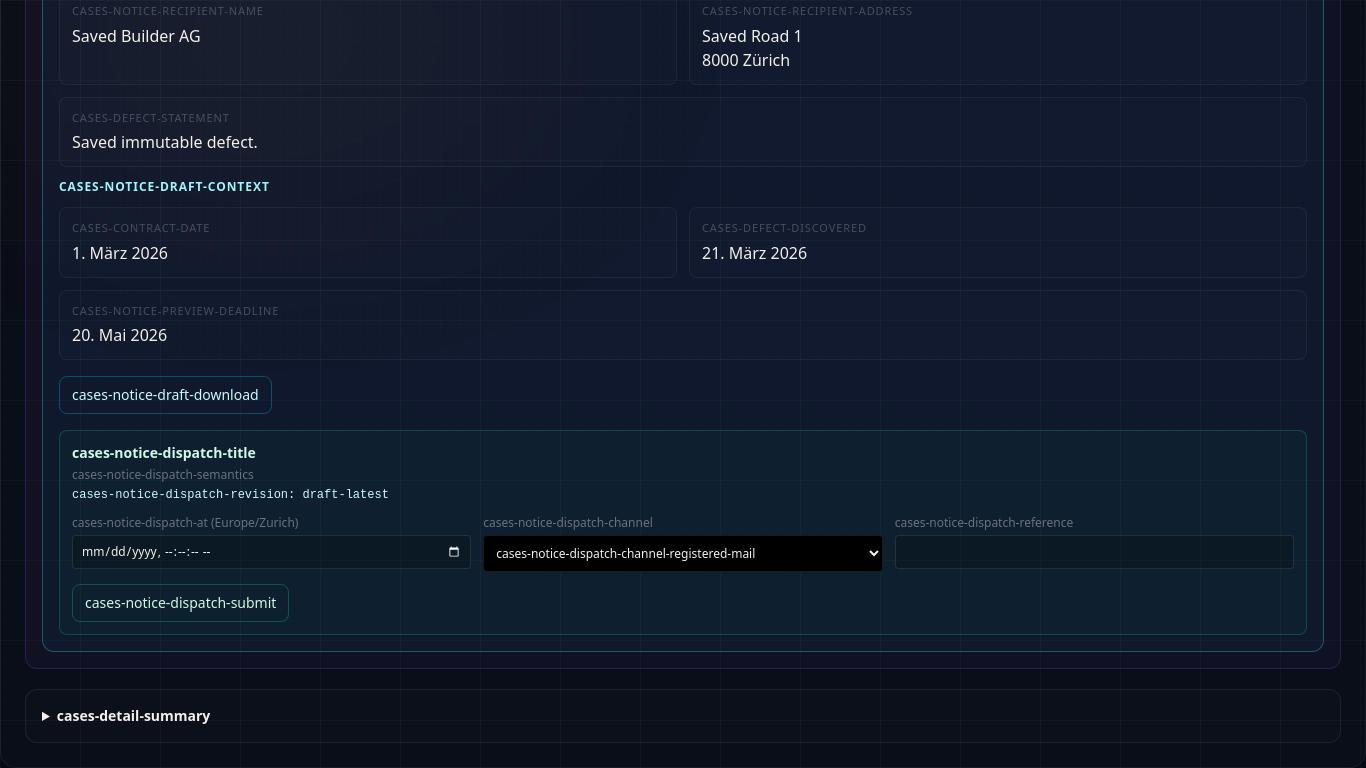
Test: Cases notice dispatch recording › shows localized feedback for a returned insert error
(page scrolled)
Type "2026-08-01T10:30" into the field labelled "cases-notice-dispatch-at (Europe/Zurich)". click: [272, 552]
box: 72,535 -> 471,569
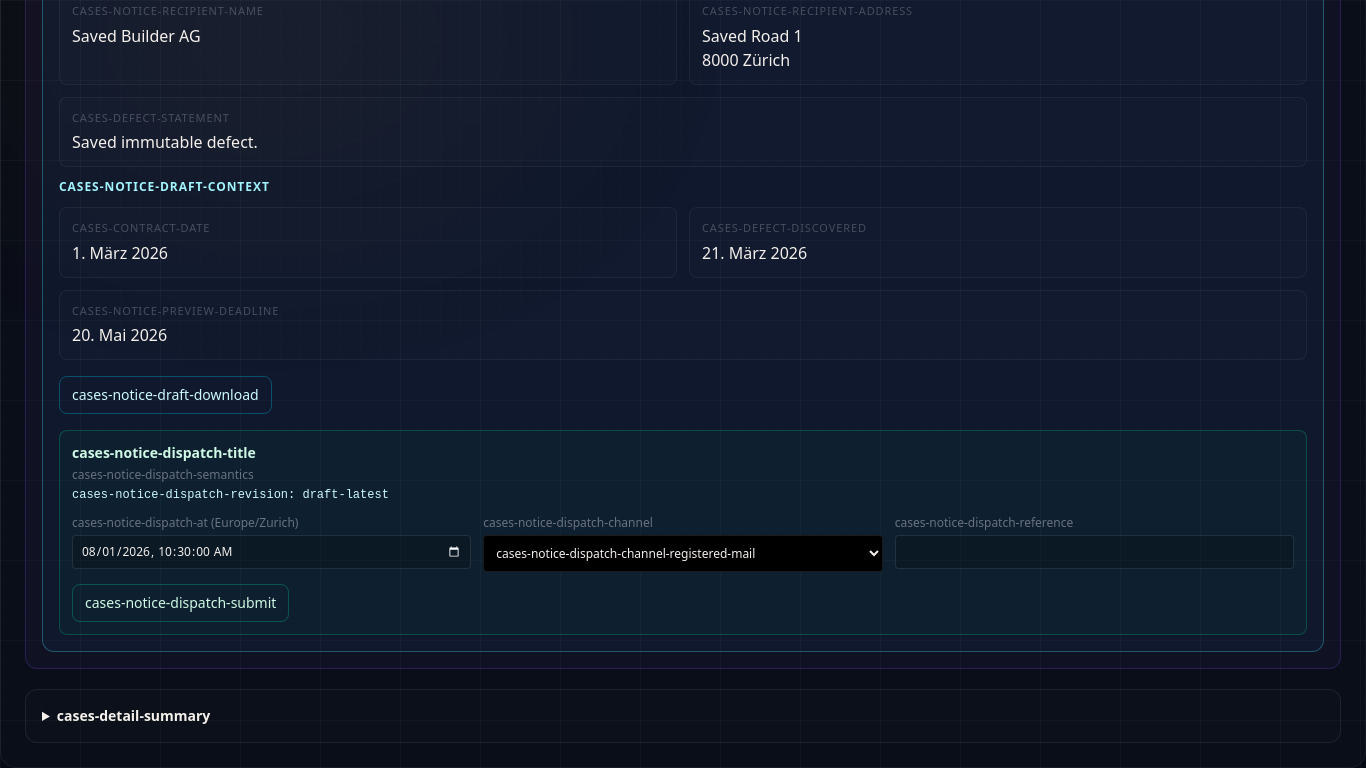
Select "cases-notice-dispatch-channel-courier" in the dropdown labelled "cases-notice-dispatch-channel". click: [683, 554]
box: 483,535 -> 883,572
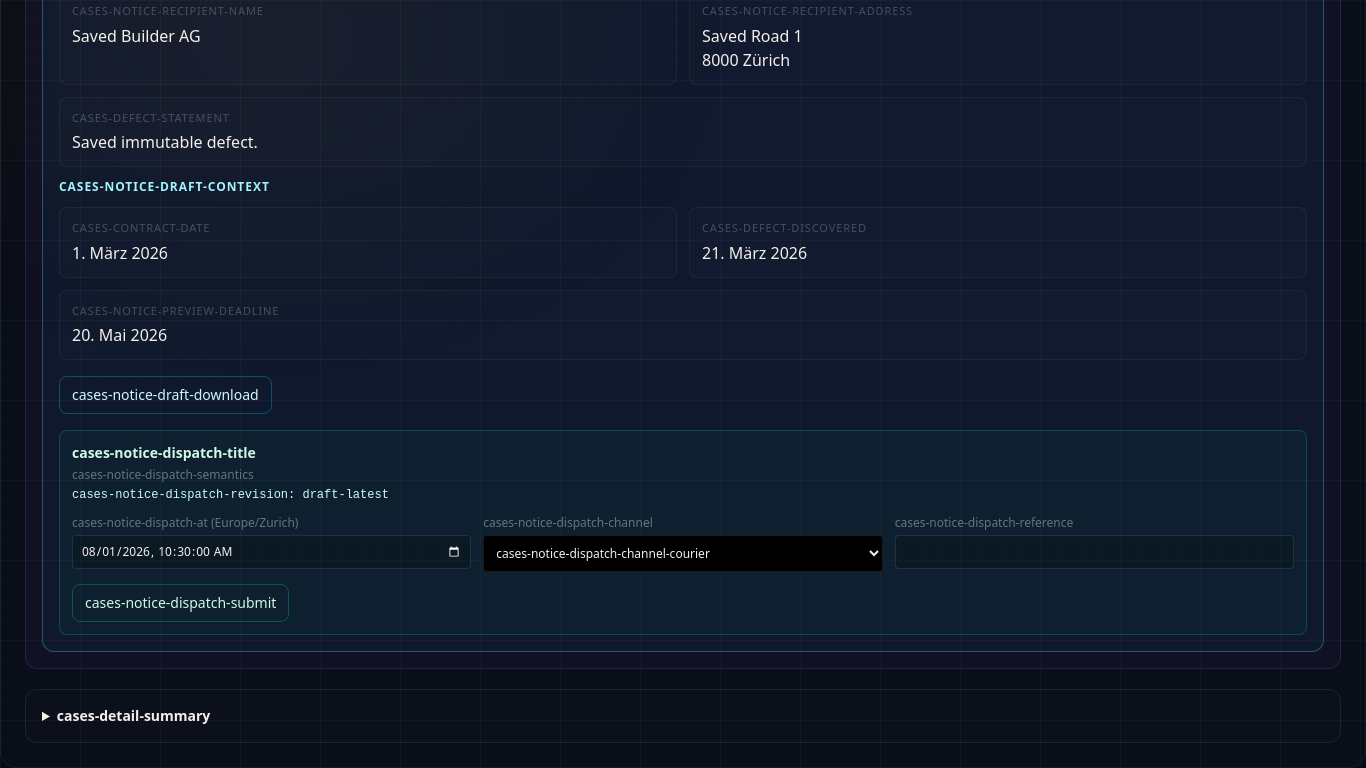
Type "  TRACK-123  " into the field labelled "cases-notice-dispatch-reference". click: [1094, 552]
box: 895,535 -> 1294,569
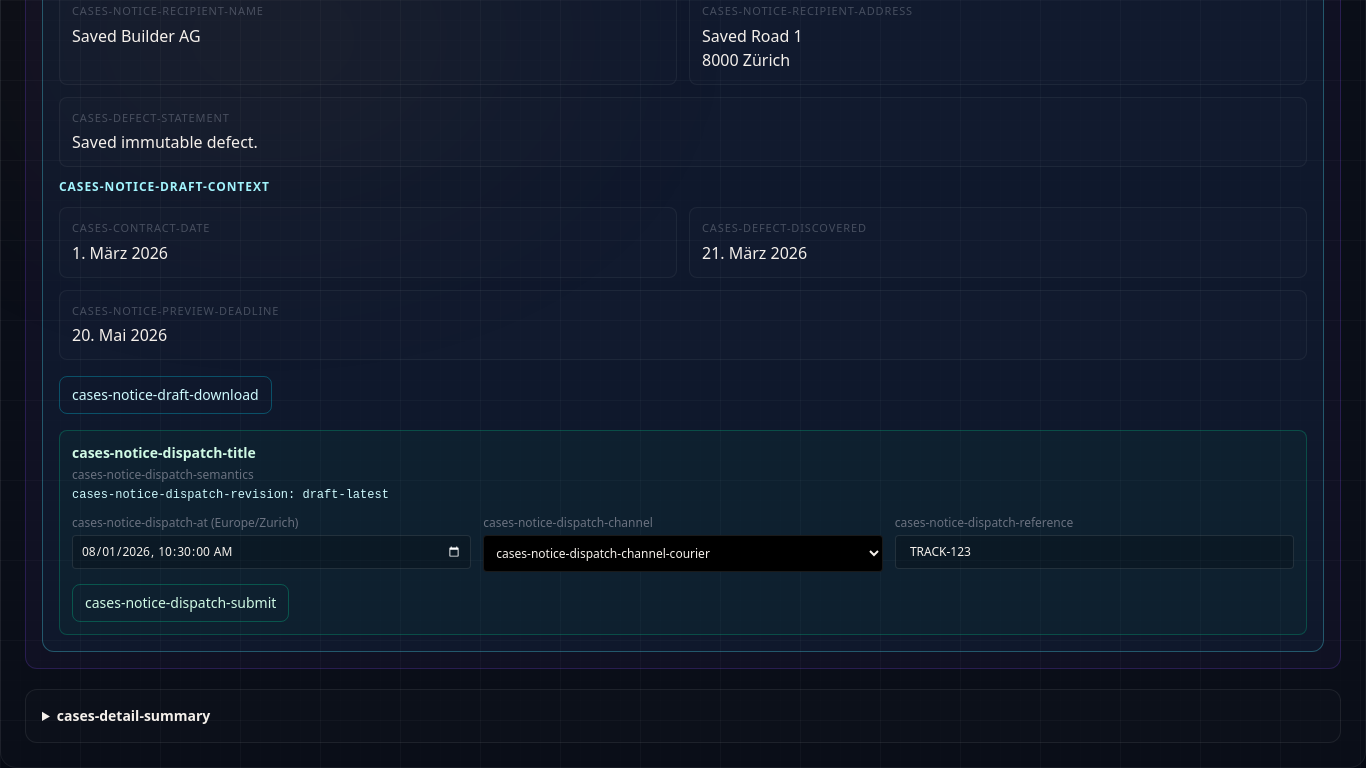
Submit the form with test id "cases-notice-dispatch-form-case-1", box 59,430 -> 1307,635
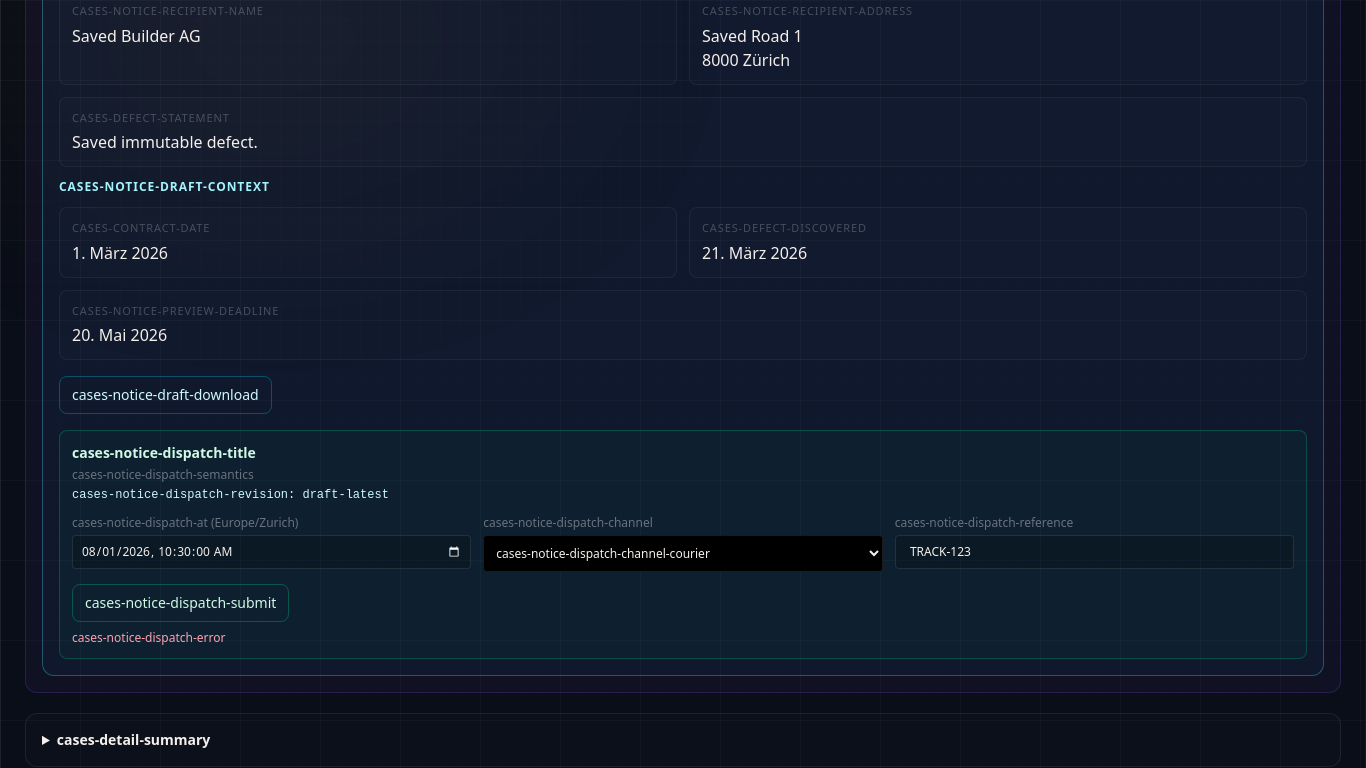
Now the message reads "cases-notice-dispatch-error", box 72,629 -> 226,646
